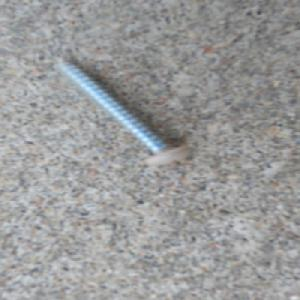Screw: (51, 53, 196, 166)
